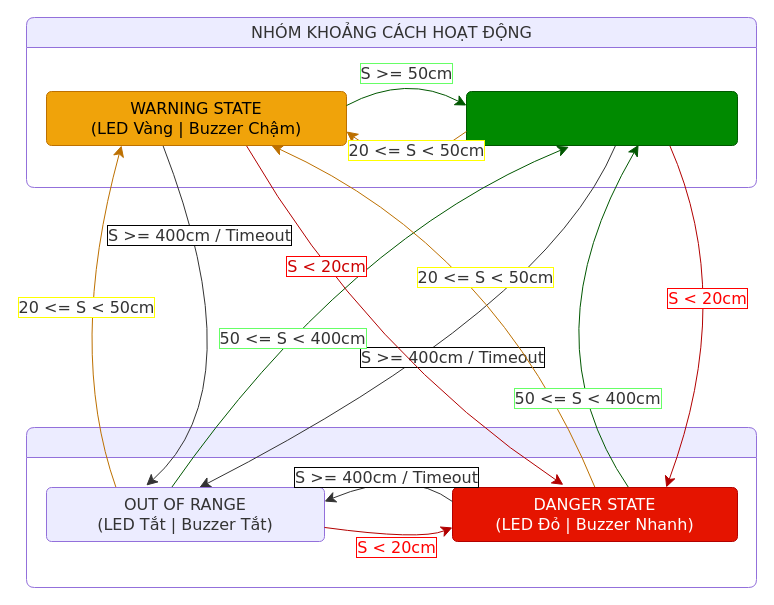
Image size: 774x605. Some labels were removed from this diagram. Each missing label, with the box of its shape:
NHÓM CẬN BIÊN & NGOẠI LỆ: (26, 426, 756, 588)
SAFE STATE (LED Xanh | Buzzer Tắt): (466, 90, 738, 146)
